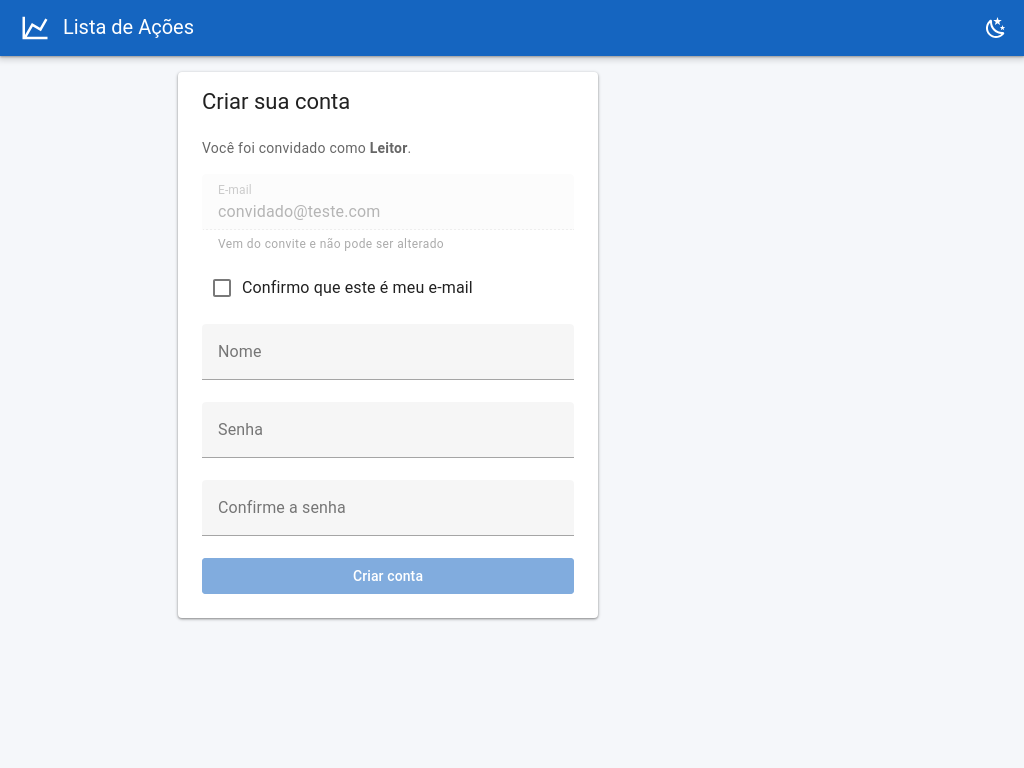
Test: cadastro por convite (/cadastro#c=) › cadastra com o e-mail confirmado e leva ao login
Step 1. Type " Convidado da Silva " into the field labelled "Nome" → (388, 352), box [202,324,574,380]
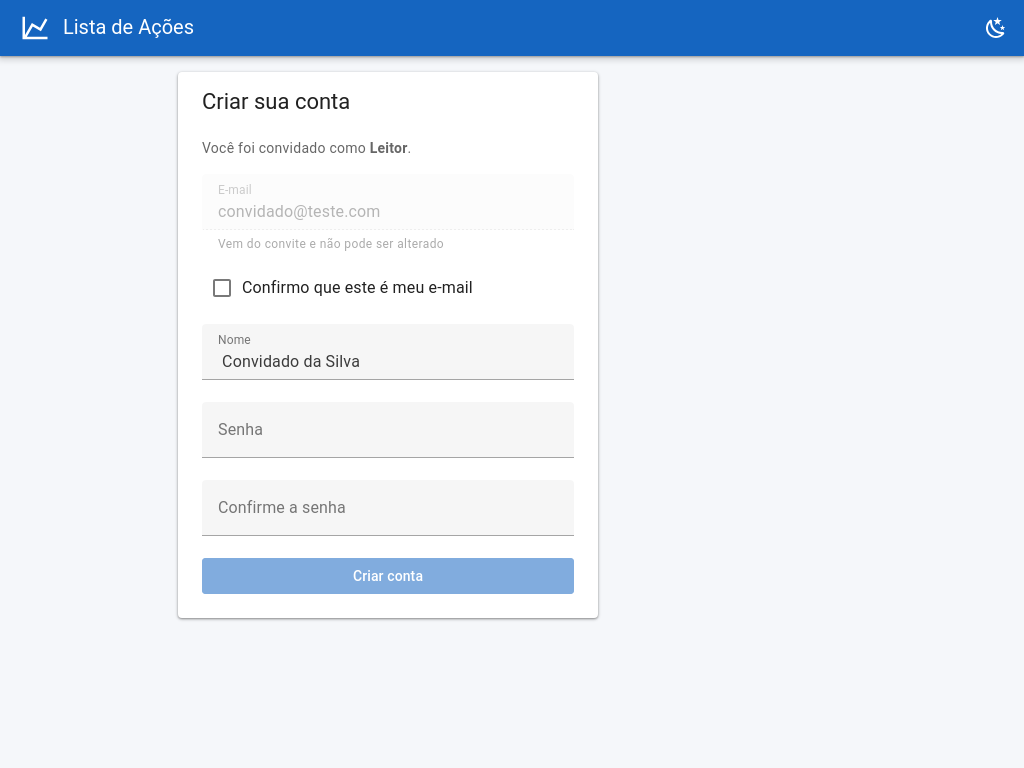
Step 2. Type "senha-do-convidado-1" into the password field labelled "Senha" → (388, 430), box [202,402,574,458]
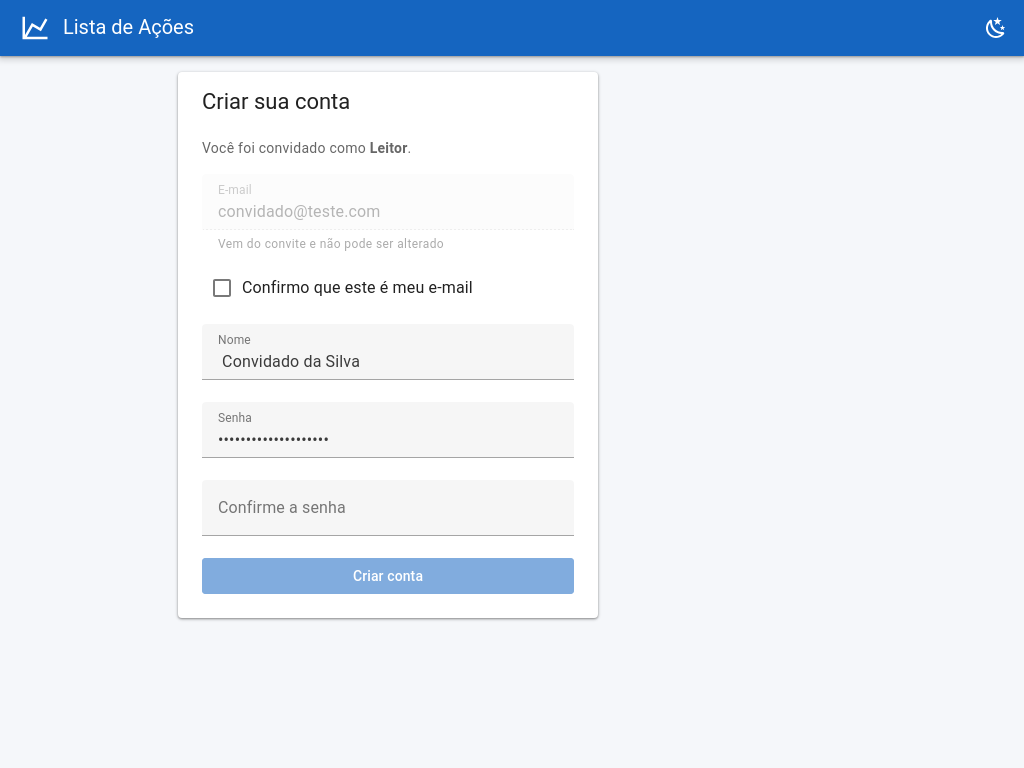
Step 3. Type "senha-do-convidado-1" into the password field labelled "Confirme a senha" → (388, 508), box [202,480,574,536]
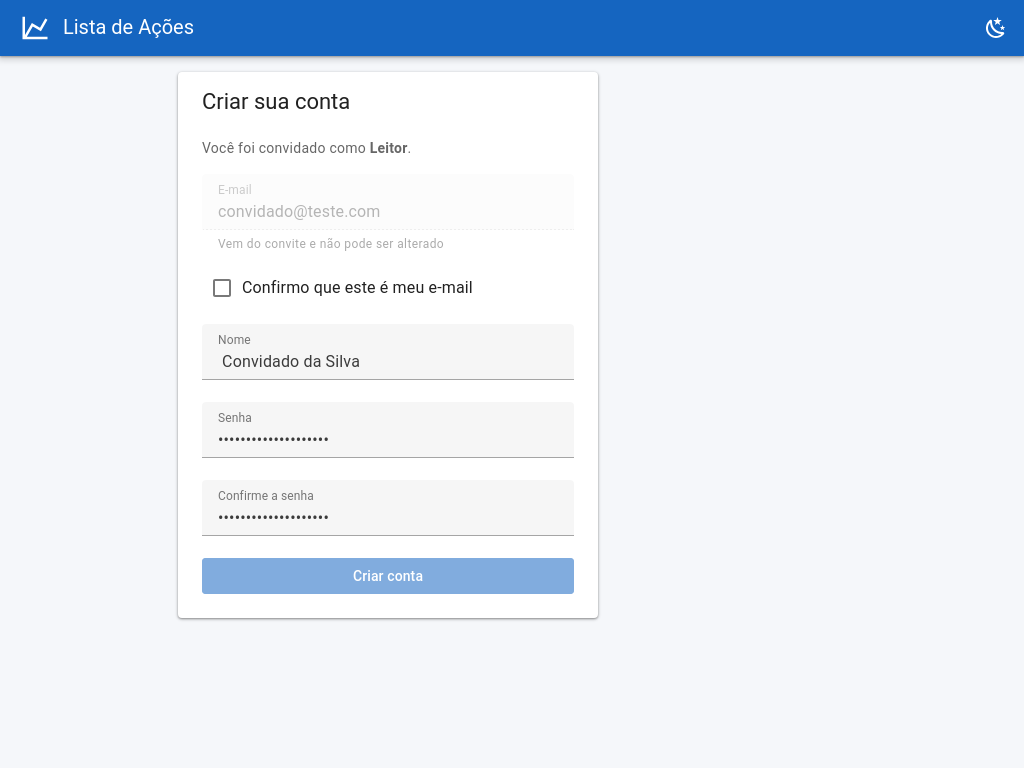
Step 4. Click the checkbox labelled "Confirmo que este é meu e-mail" → (357, 288), box [242,278,473,297]
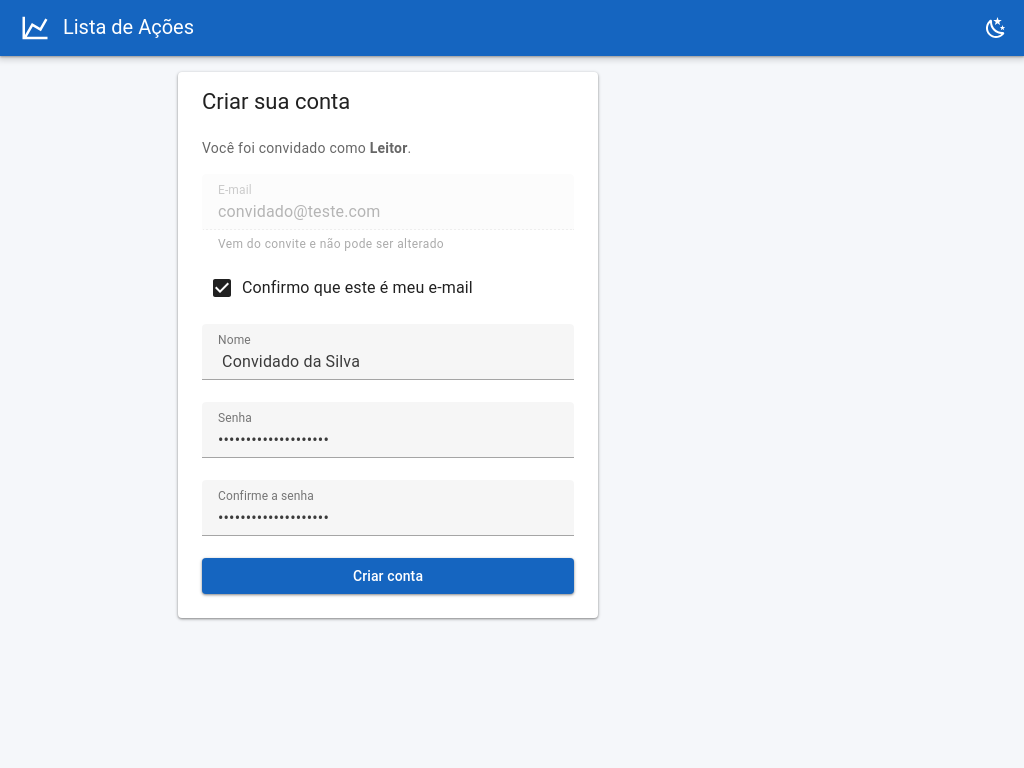
Step 5. Submit the form with test id "form-cadastro", box [202,138,574,594]
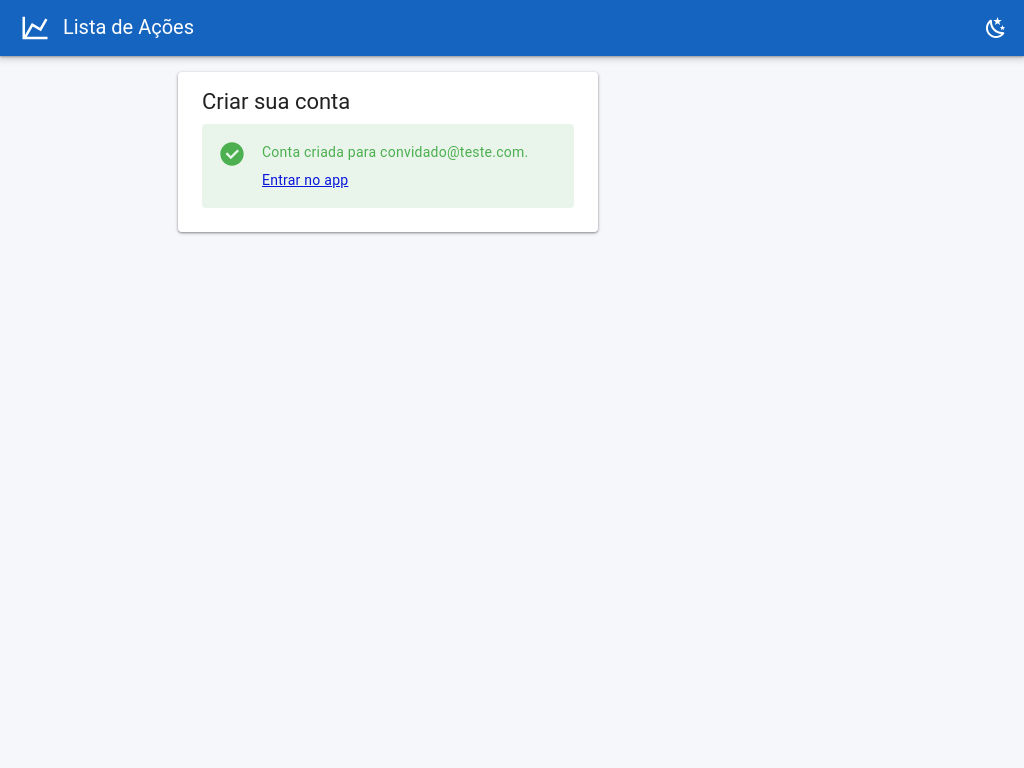
Check: the element with test id "cadastro-sucesso" shows "convidado@teste.com", box [262,144,528,160]
